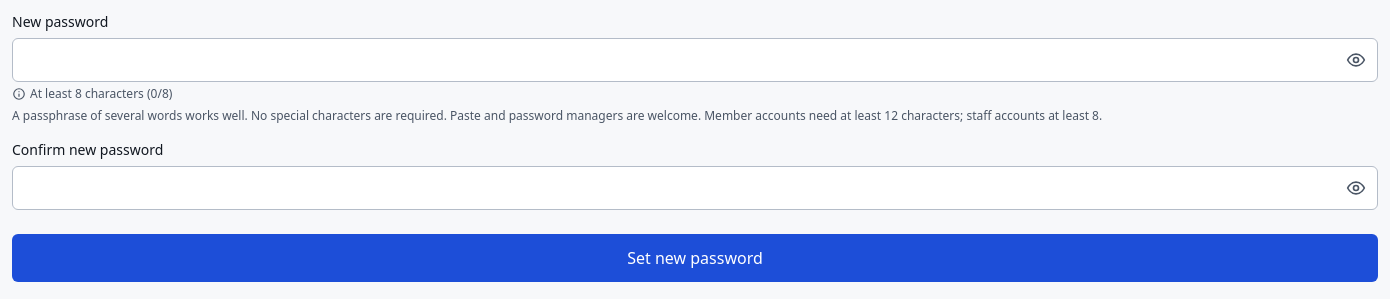
it: token pages › strip the token from the address bar and send it only on submit
Type "correct horse battery staple" into the password field labelled "New password". click: (695,60)
box: [12,38,1378,82]
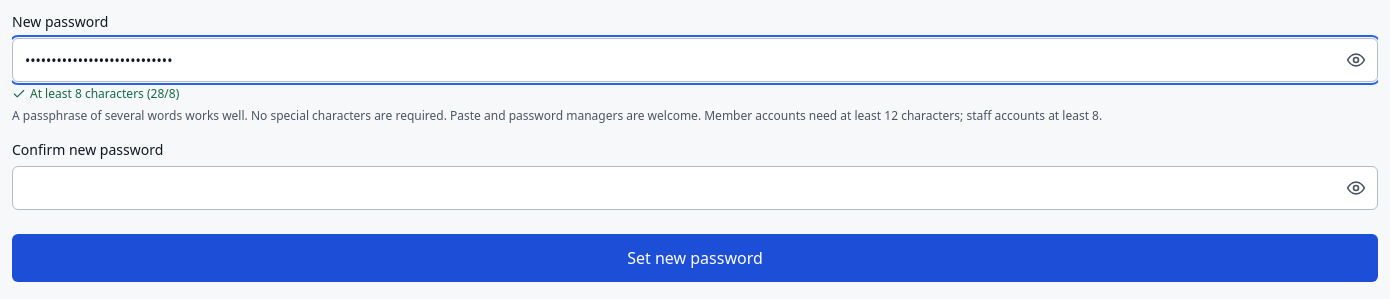
Type "correct horse battery staple" into the password field labelled "Confirm new password". click: (695,188)
box: [12,166,1378,210]
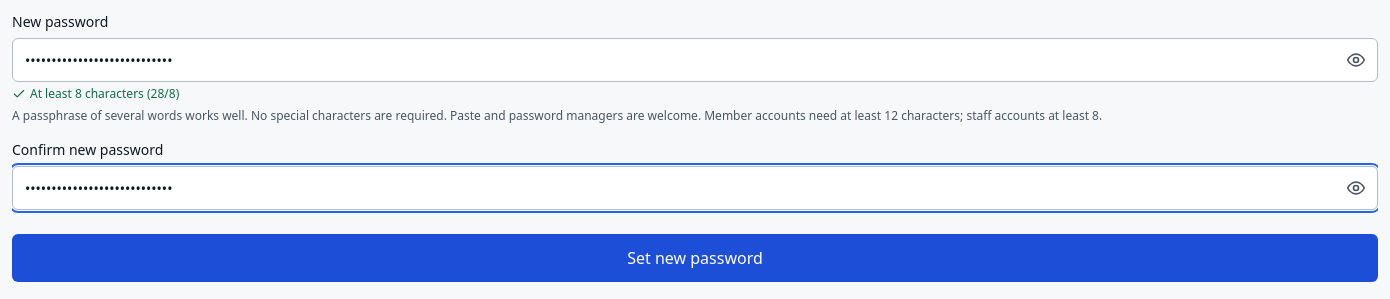
Click the button "Set new password". click: (695,258)
box: [12,234,1378,282]
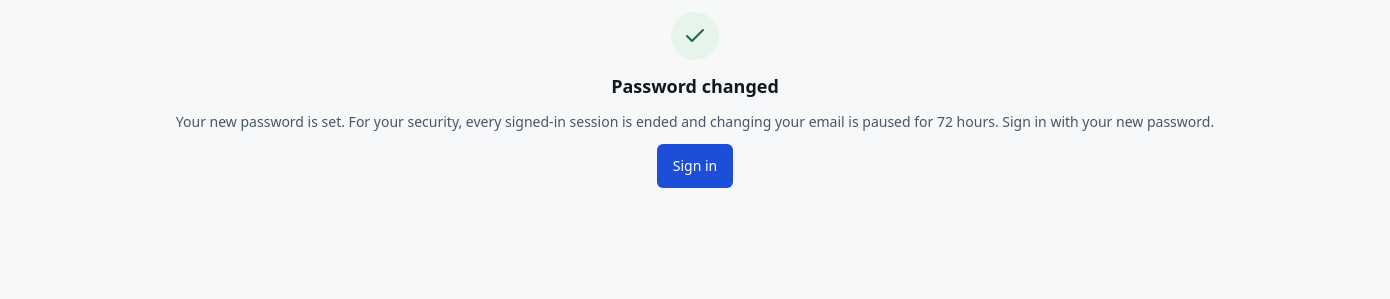
Now the heading "Password changed" is shown, box [611,72,779,100]
Now the text "paused for 72 hours" is shown, box [176,112,1214,131]
